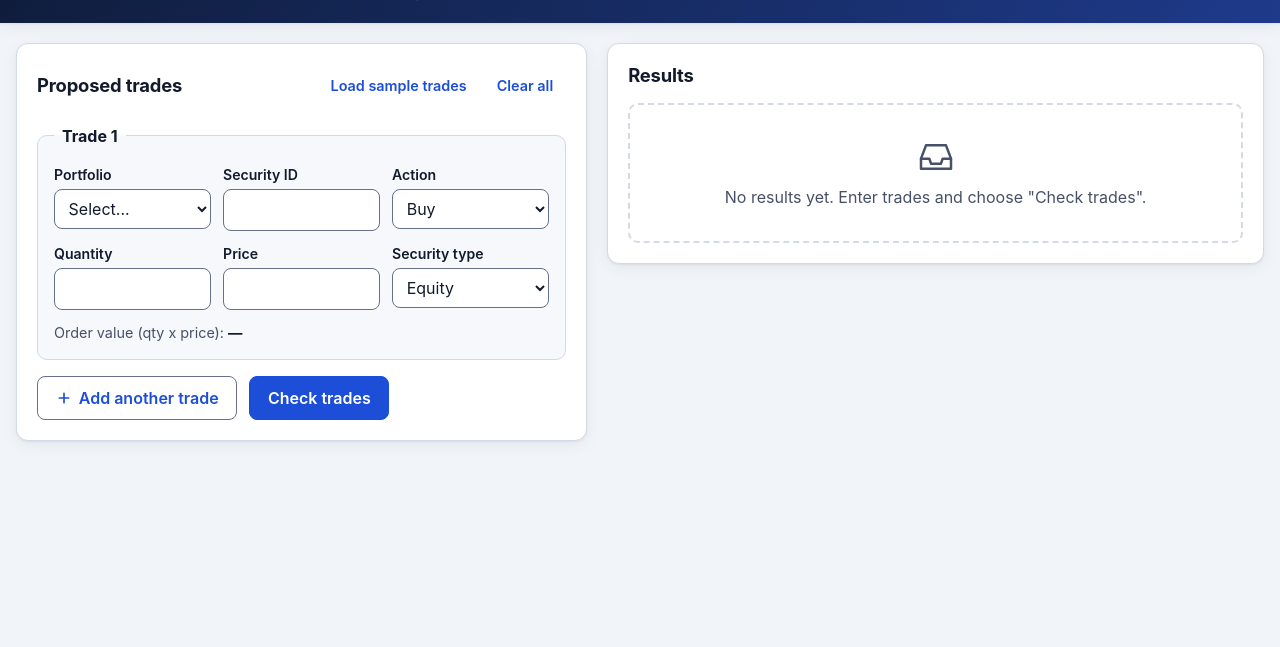
it: summary tiles and filter chips › summaryTiles_showCountsComputedFromResults
Click the button "Load sample trades" at [399, 86], box left=318, top=64, right=480, bottom=108
(page scrolled)
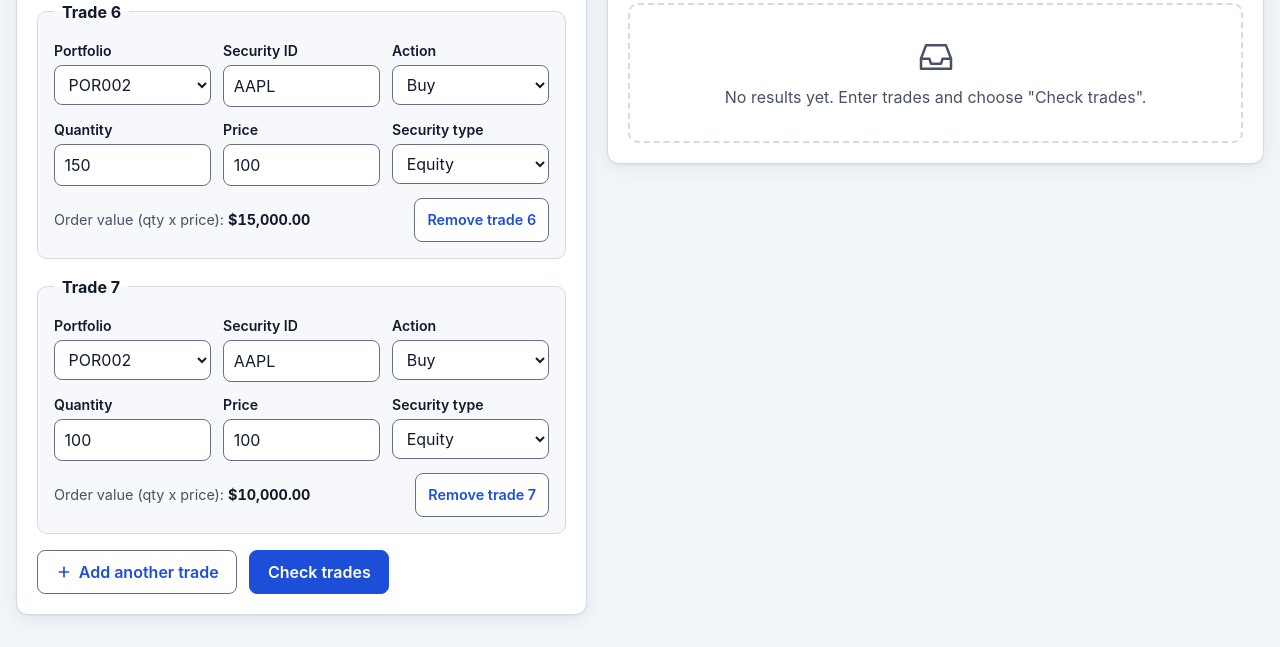
Click the button "Check trades" at [319, 572], box left=249, top=550, right=389, bottom=594
(page scrolled)
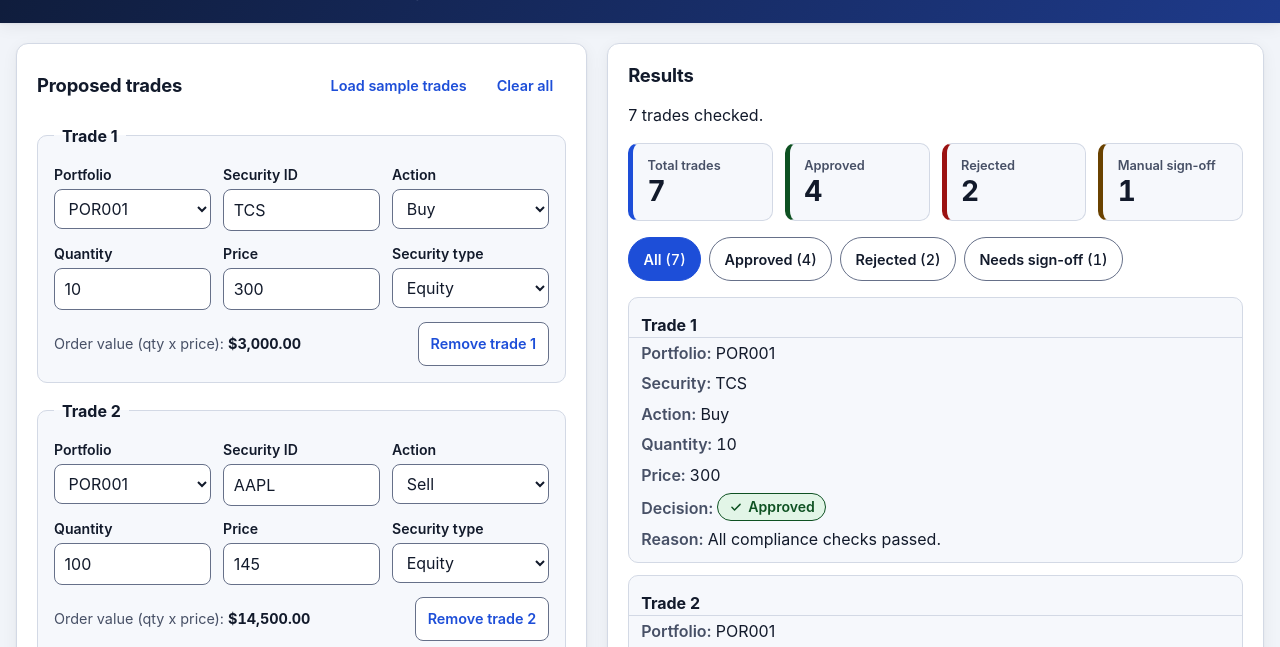
Now the text with test id "count-total" reads "7", box left=648, top=174, right=666, bottom=208
Now the text with test id "count-approved" reads "4", box left=804, top=174, right=822, bottom=208
Now the text with test id "count-rejected" reads "2", box left=961, top=174, right=979, bottom=208
